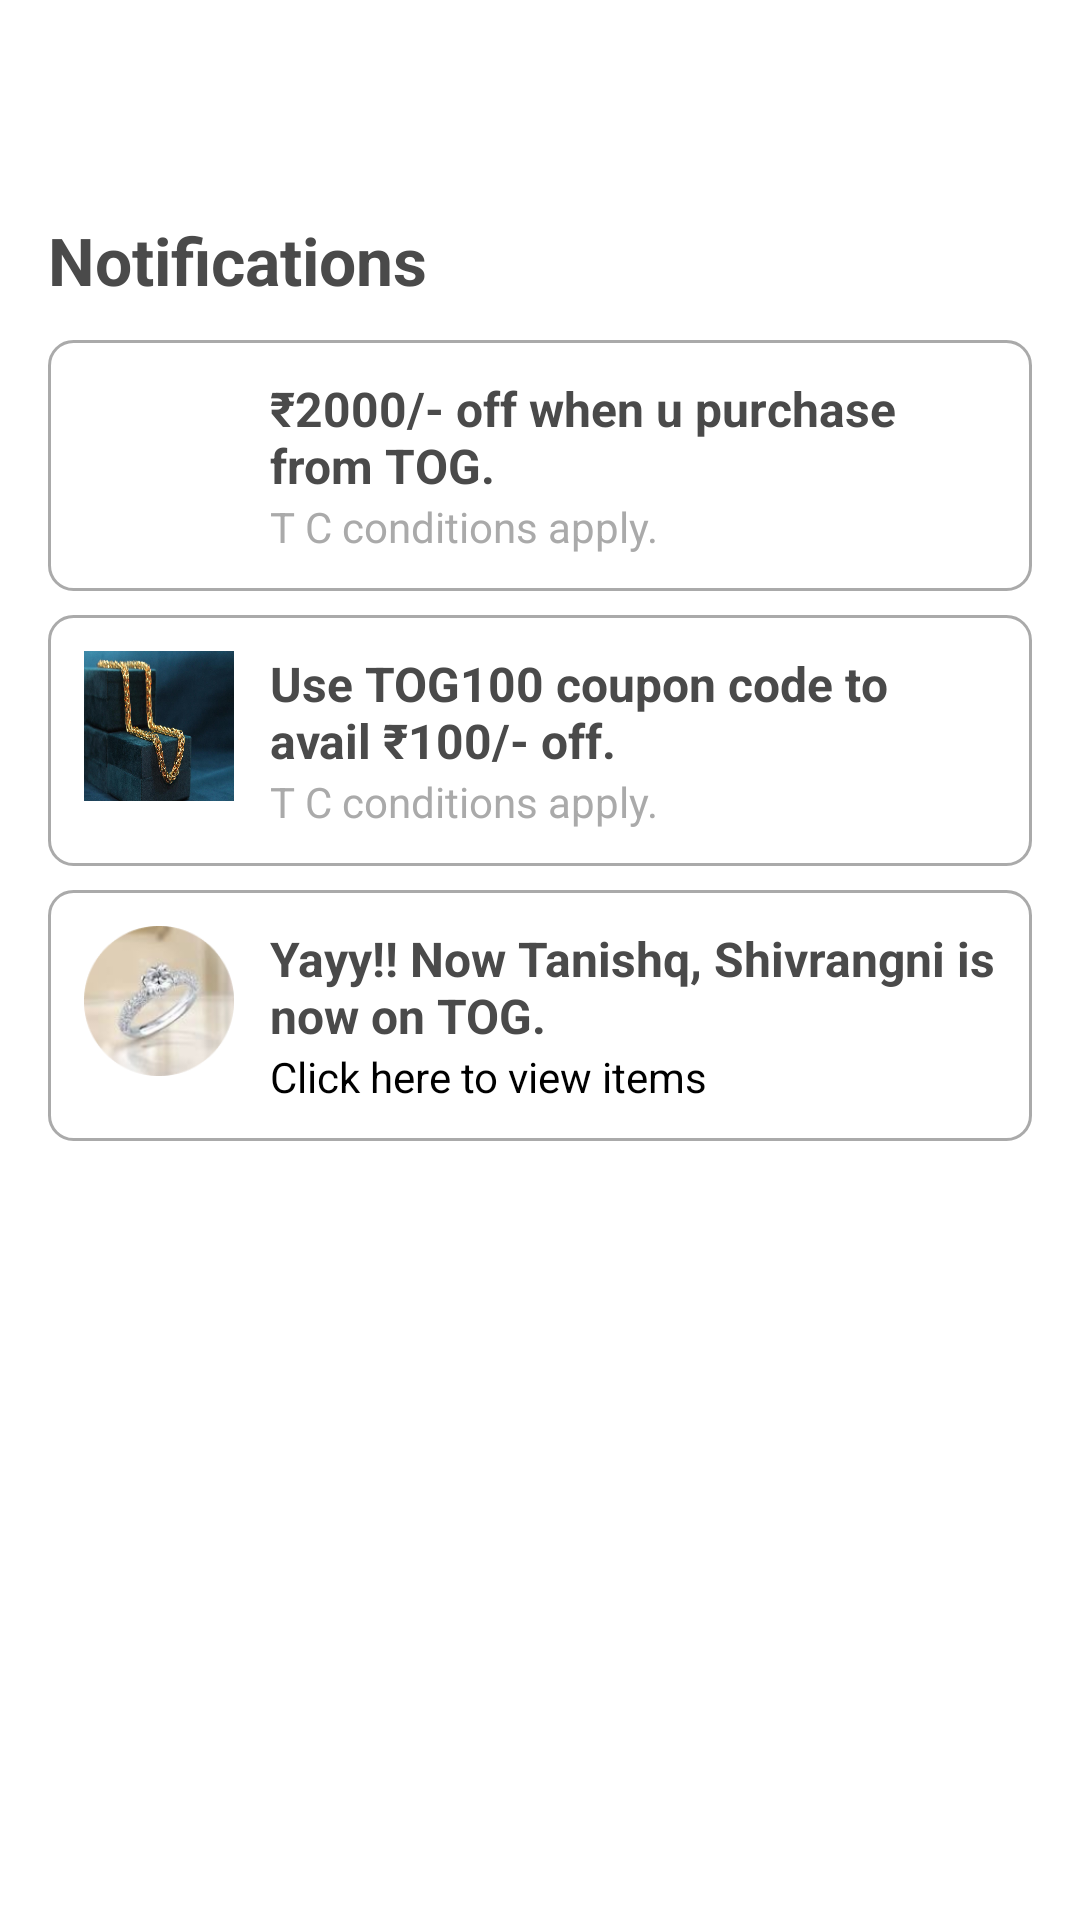

Where icons sit on this 1080*1920 app screen, as (x1, y1, x2, y2):
chain: (84, 651, 234, 801)
ring: (84, 926, 234, 1076)
